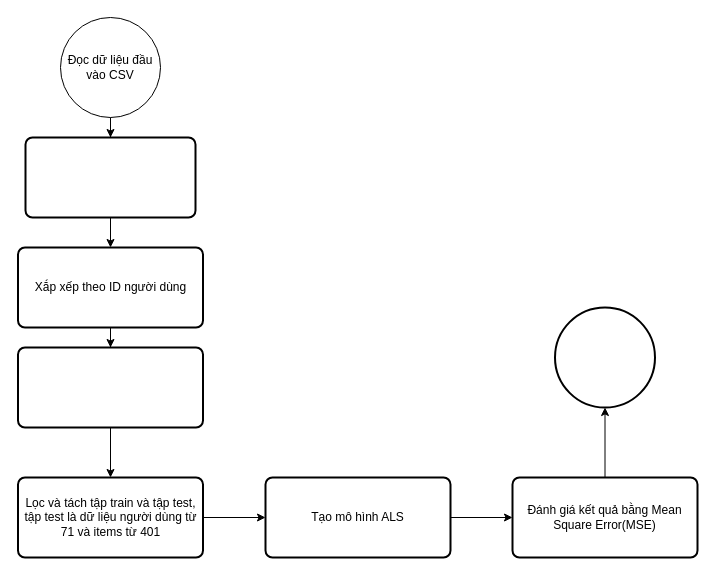
This 716x576 diagram has some shape labels left out. Each missing label, with the centre of its shape:
Chuyển đổi sang DataFrame với Schema xác định được: (x=110, y=177)
Hiển thị kết quả: (x=605, y=357)
Lưu dữ liệu trong bộ nhớ cache: (x=110, y=387)
